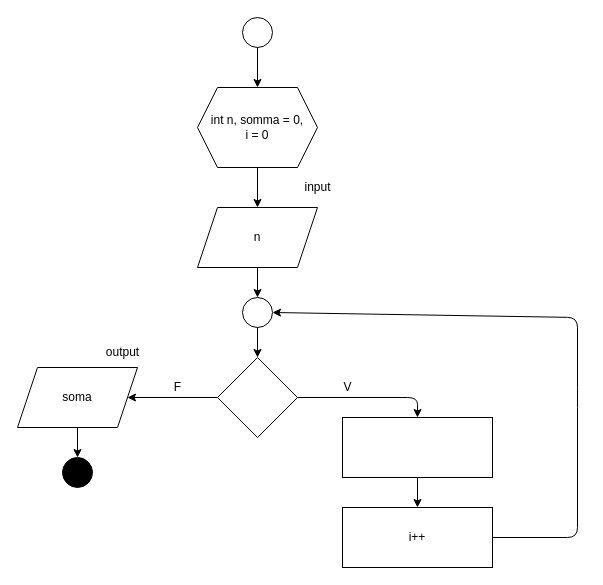
Image size: 603x585. Some labels were removed from this diagram. Here are the shapes that lost their labels. From the top down, the box of each, then its label:
(216, 356, 298, 438): i <= n
(342, 416, 492, 478): somma = somma + i
